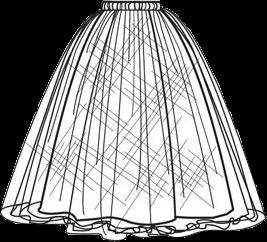Hemline: (0, 210, 266, 241)
Waistline: (101, 7, 164, 10), (102, 0, 161, 2)
